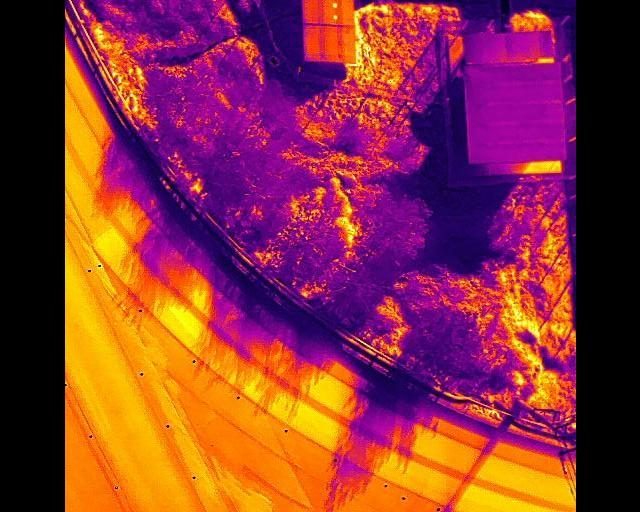Cell-Multi: (321, 0, 337, 25)
No-Anomaly: (304, 25, 322, 61), (321, 26, 338, 62), (339, 26, 355, 63), (302, 0, 320, 25), (337, 0, 351, 26)
